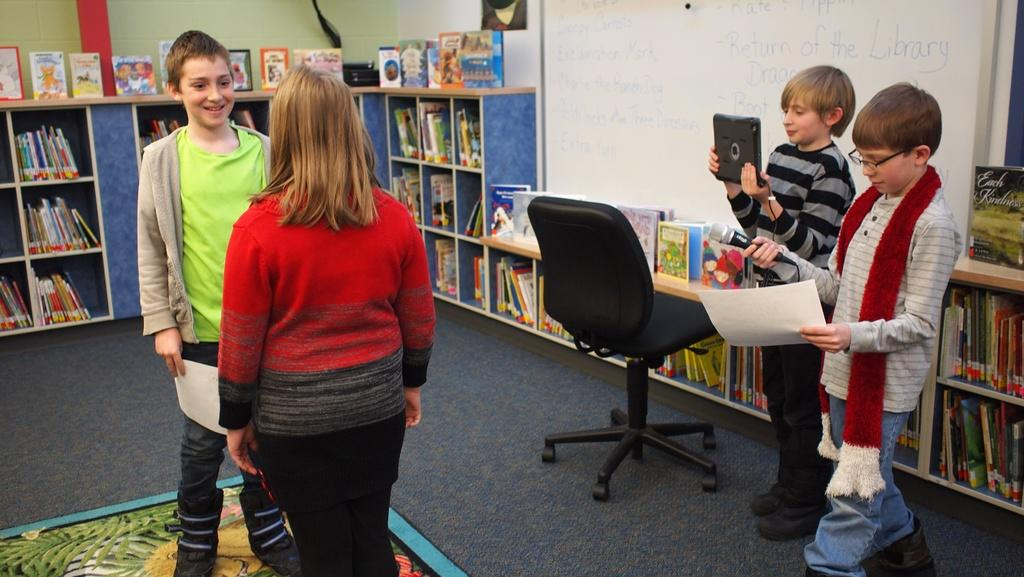Chair: (519, 202, 776, 504)
